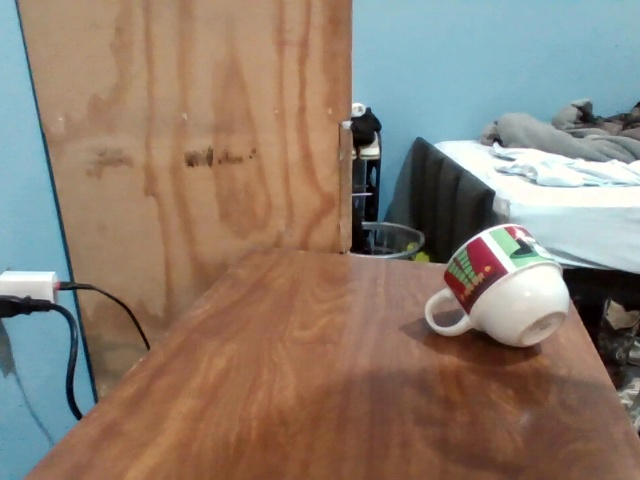taza: (423, 222, 573, 348)
